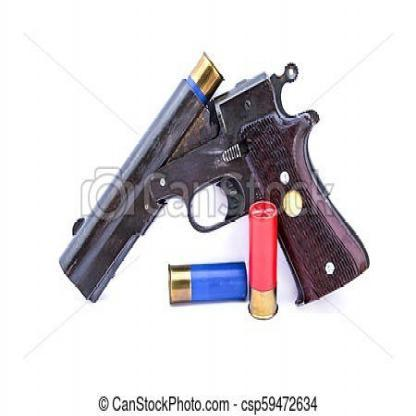Pistol: (58, 48, 370, 303)
